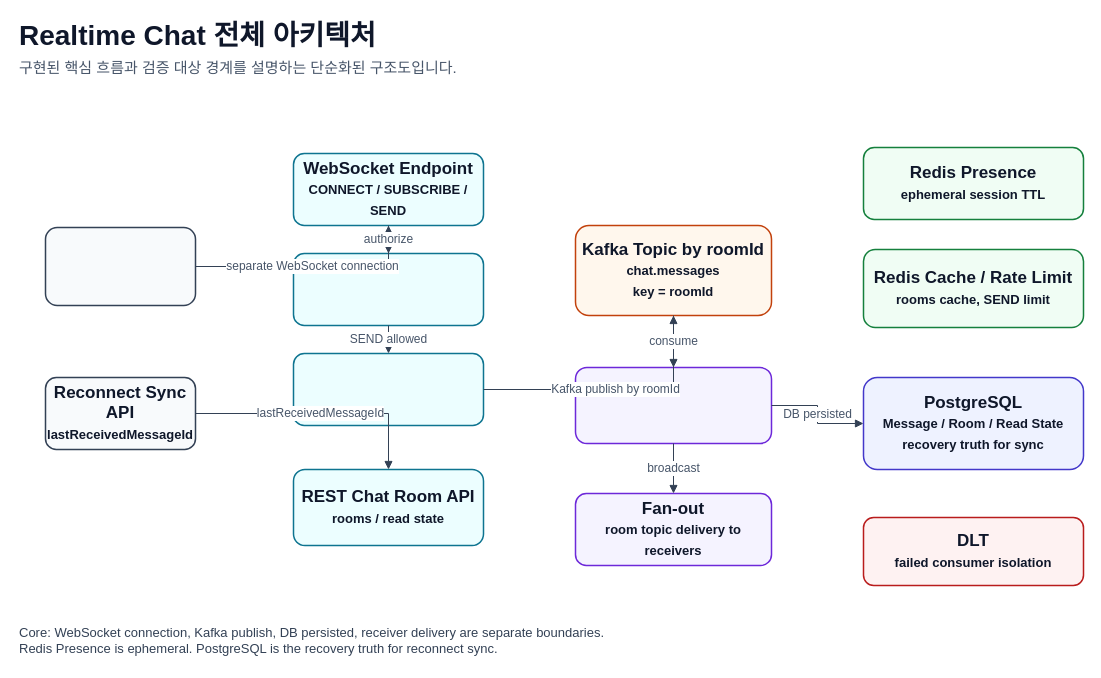
This 1101x678 diagram has some shape labels left out. The centre of each missing label's shape, as x and y in pixels:
"Client WebSocket STOMP" belongs at (x=120, y=266).
"Kafka Consumer persist / broadcast paths" belongs at (x=673, y=405).
"Message Producer ACK/NACK = Kafka publish" belongs at (x=388, y=389).
"STOMP Auth JWT auth + room membership" belongs at (x=388, y=289).
